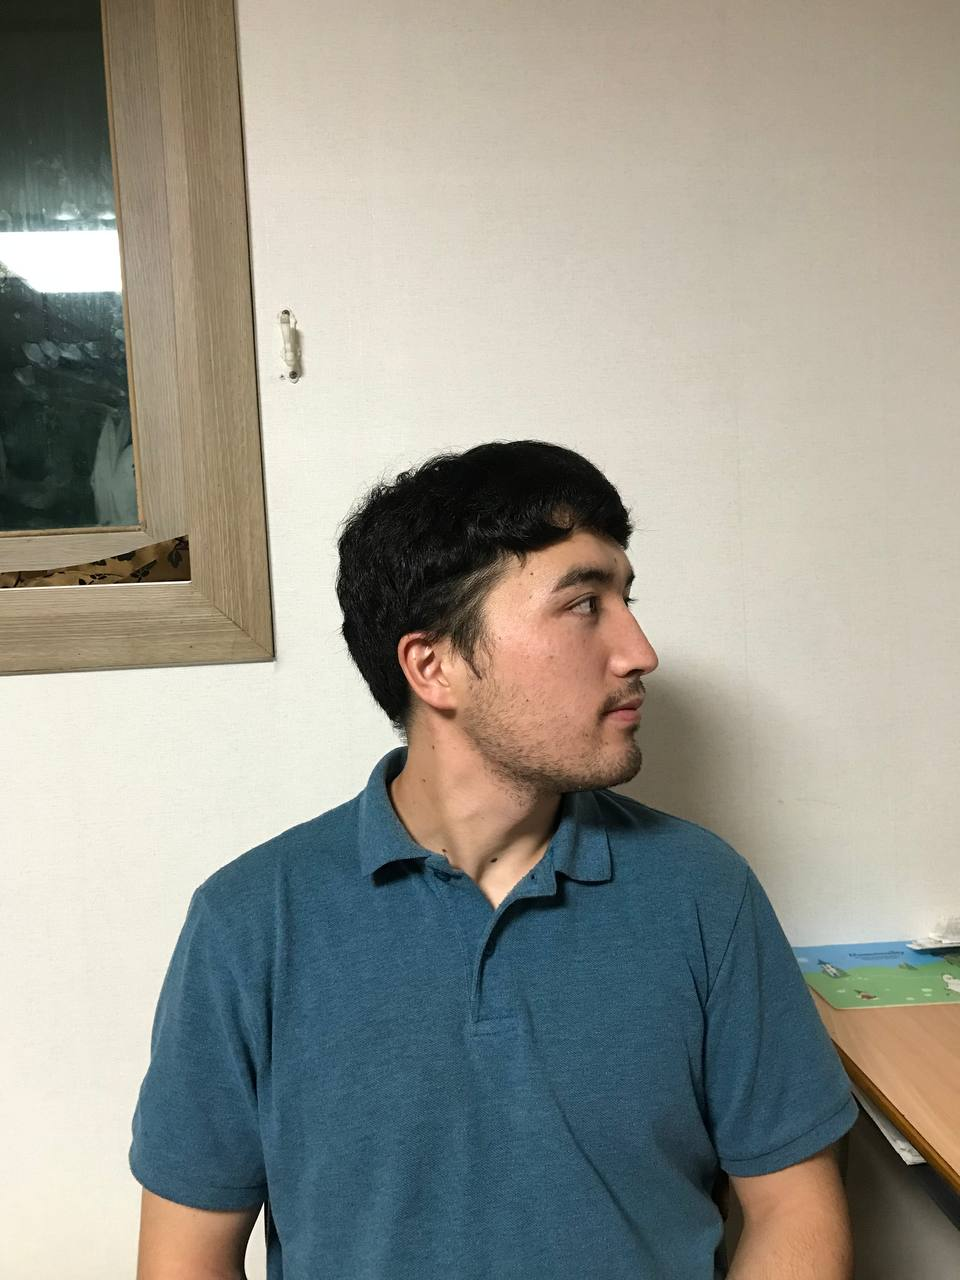NoMask: (343, 628, 659, 794)
